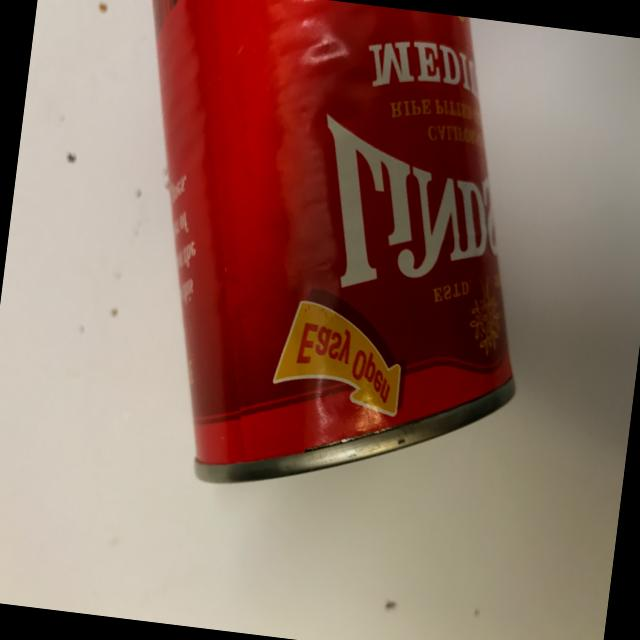Metal: (58, 0, 577, 590)
